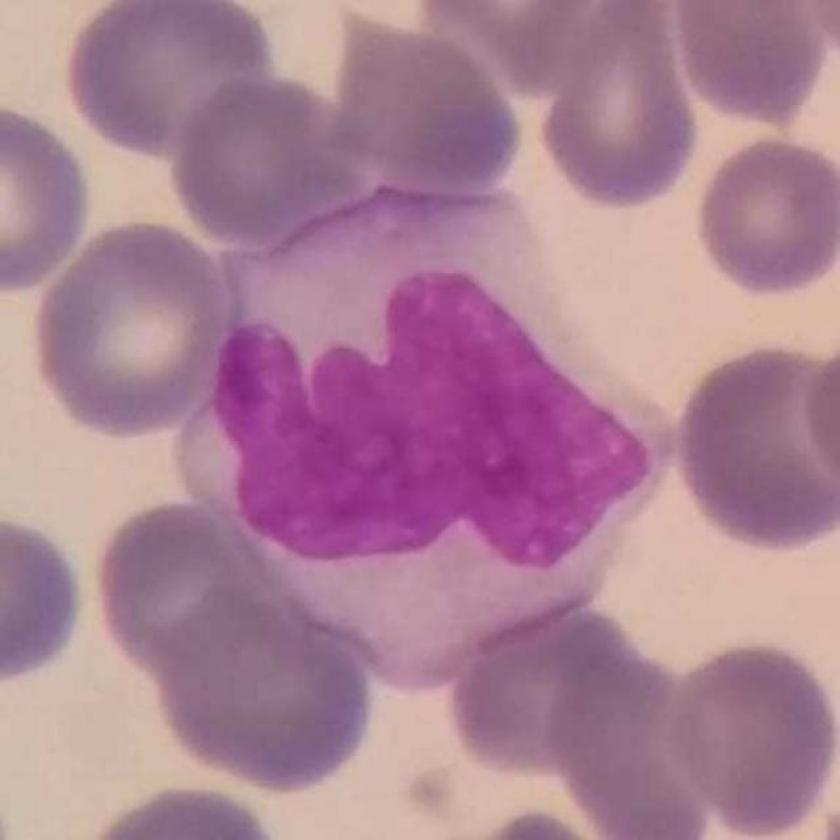monocyte: (175, 178, 688, 697)
